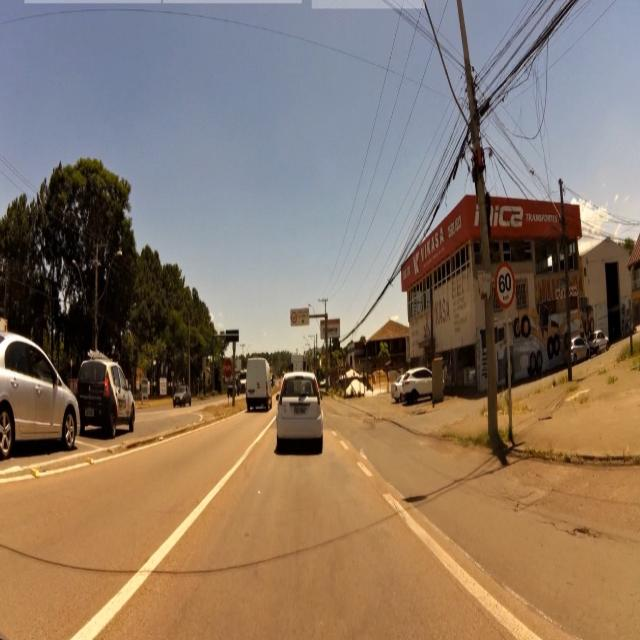R-19: (494, 262, 515, 310)
